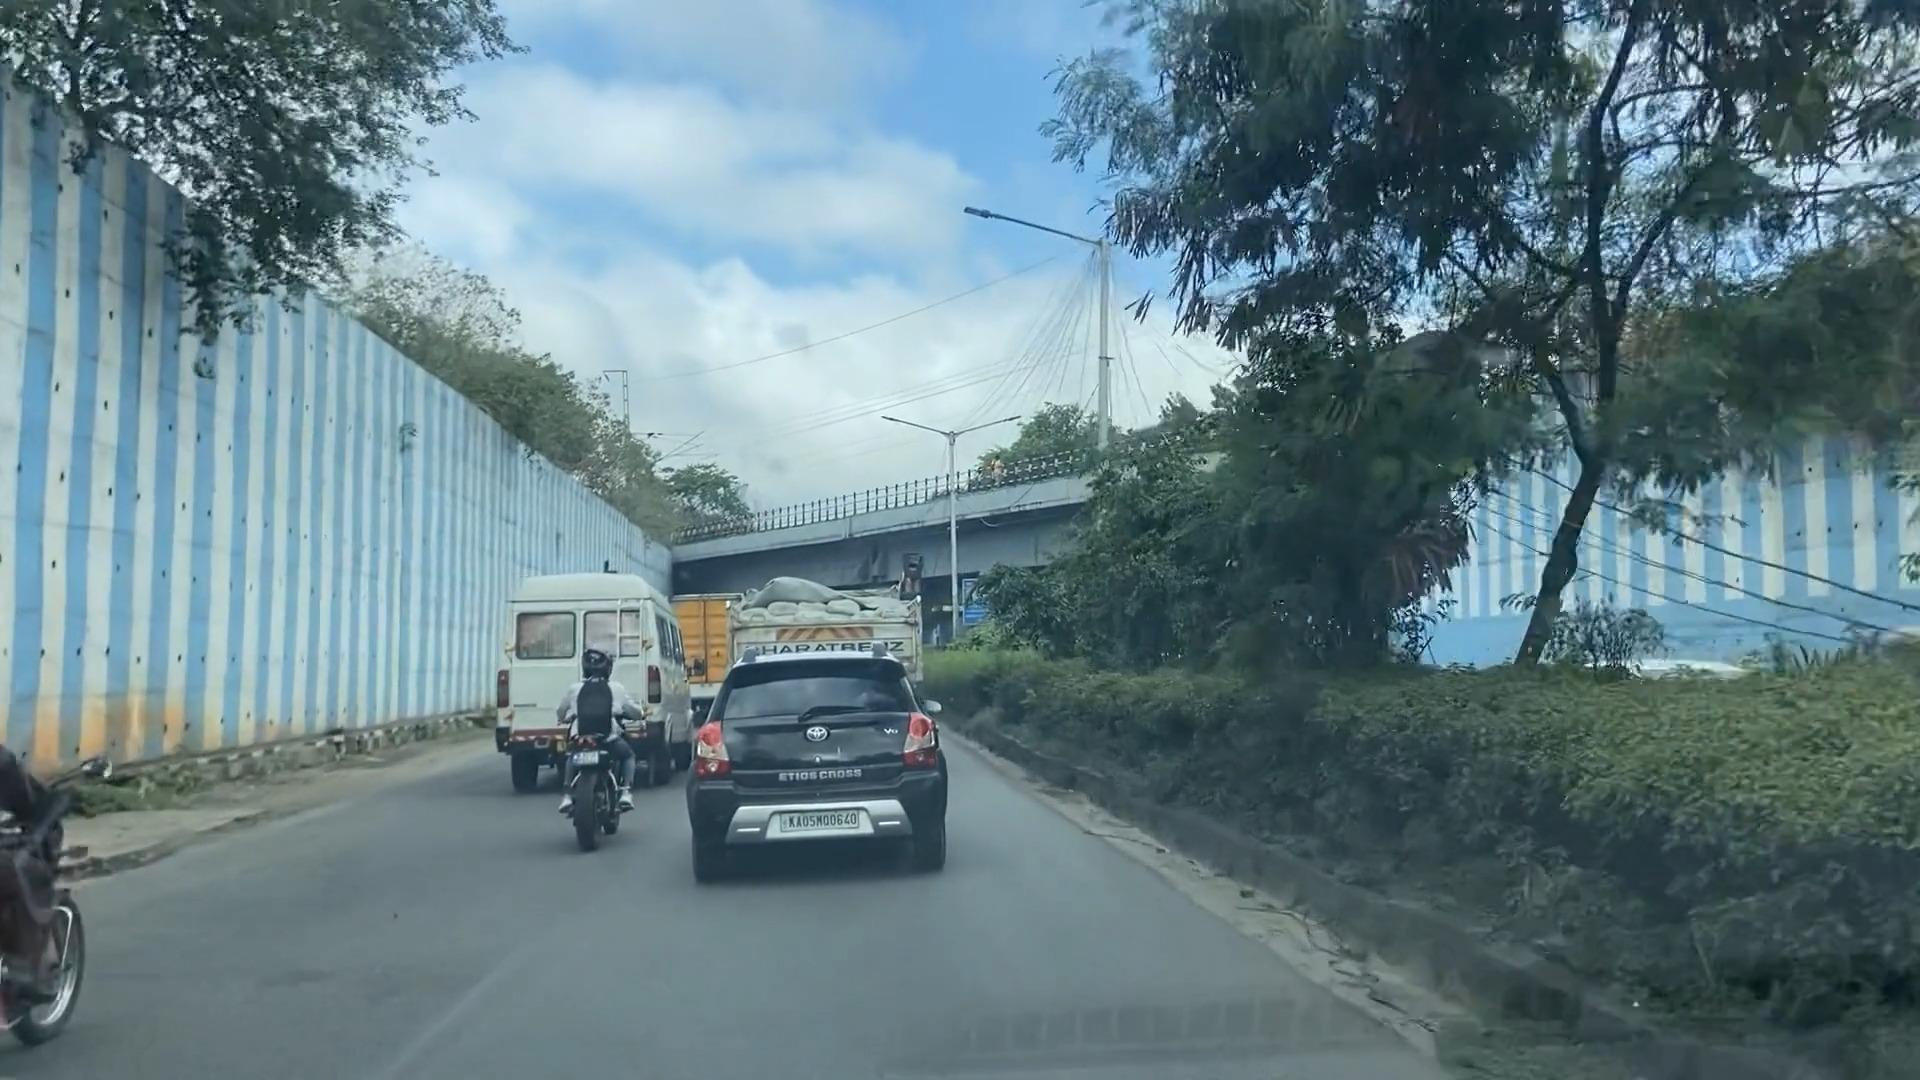HMV: (500, 583, 703, 800)
LMV: (670, 666, 951, 899), (543, 644, 637, 865)
